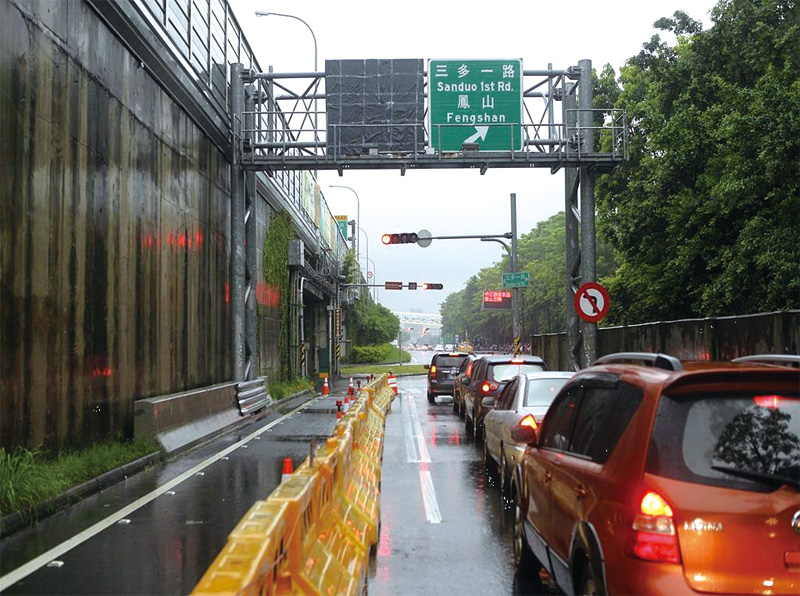No_left_turn: (574, 282, 611, 320)
